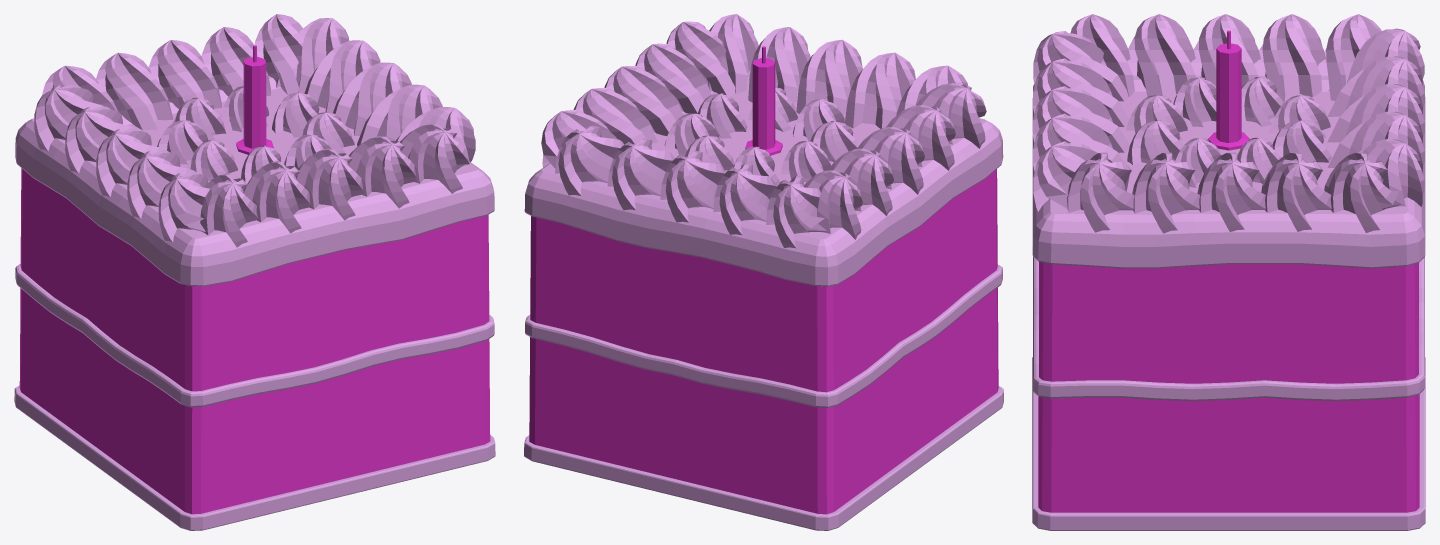
File: CookbotCake_geo.fbx
3 views of the same model, side by side, from view 1: azimuth 30°, elevation 25°; view 2: azimuth 150°, elevation 25°; view 3: azimuth 270°, elevation 25° (orthographic). The views are drawn at different scales.
Visible parts, largest first — view 1: Cake; view 2: Cake; view 3: Cake.
Boxes of the visible parts, x1,y1,x2,y2 form: Cake: (14, 14, 495, 530); Cake: (524, 14, 1003, 530); Cake: (1032, 14, 1425, 530).
Bounding box in the file's own units: 84.03 × 98.22 × 84.03.
